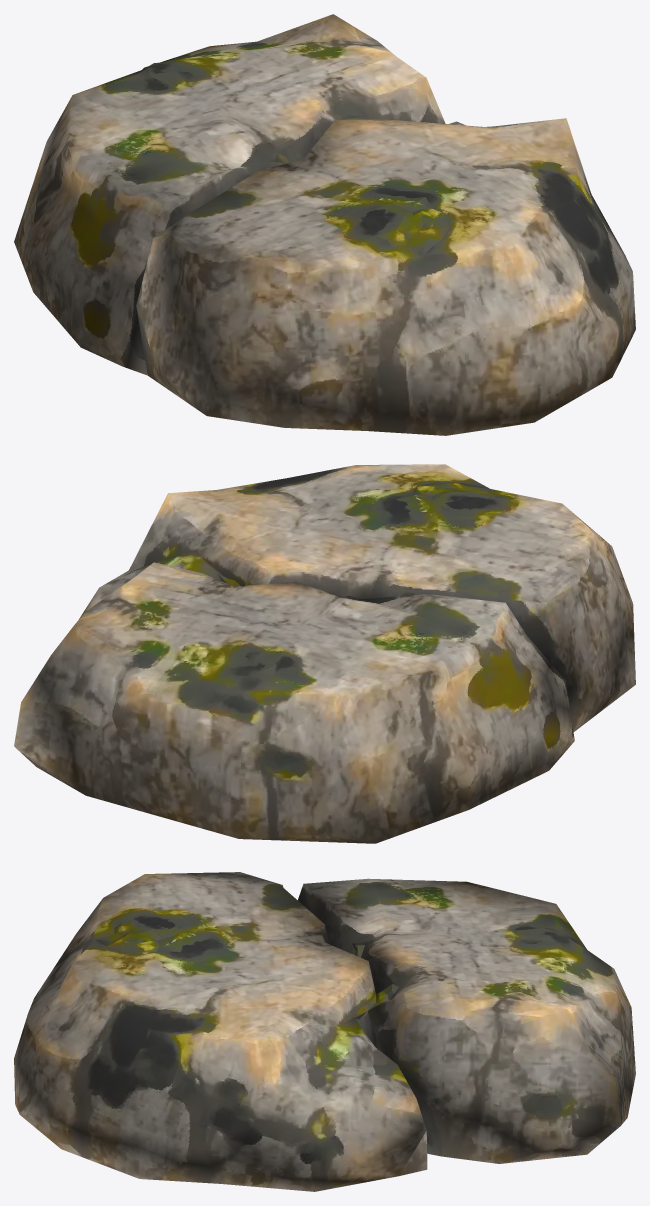
File: boulder-3.glb
3 renders of one model, top to bottom at view 1: azimuth 30°, elevation 25°; view 2: azimuth 150°, elevation 25°; view 3: azimuth 270°, elevation 25°, orthographic. The views are drawn at different scales.
Visible parts, largest first — view 1: boulder-3.raw; view 2: boulder-3.raw; view 3: boulder-3.raw.
Part boxes in pixels (x1,y1,x2,y2): boulder-3.raw: [14, 14, 635, 435]; boulder-3.raw: [14, 464, 635, 843]; boulder-3.raw: [14, 872, 635, 1191].
Bounding box in the file's own units: 2.39 × 0.7999 × 3.
Materials: 1 (1 with a texture image).
